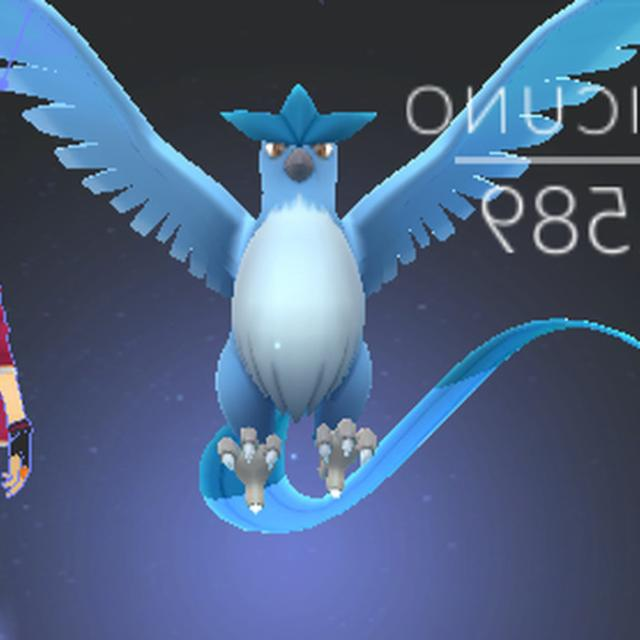Articuno: (91, 80, 493, 516)
